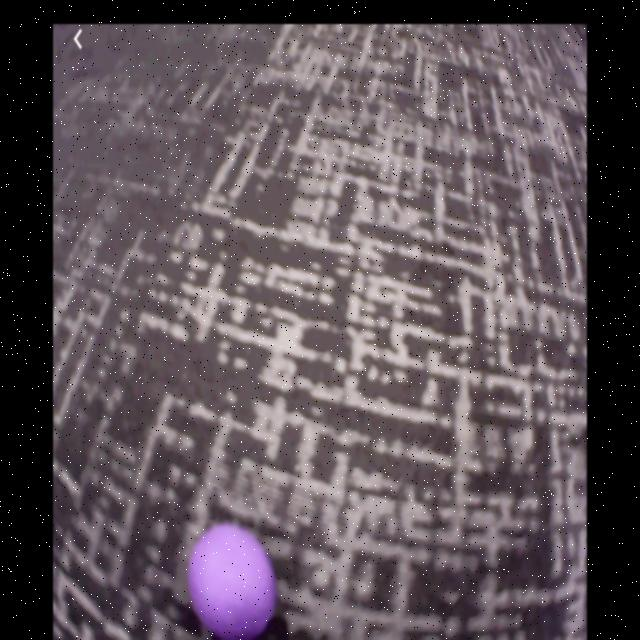ball: (189, 528, 276, 640)
